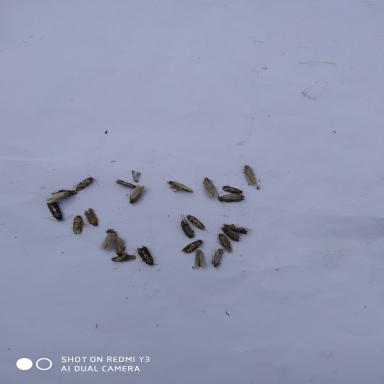pbw: (44, 198, 75, 222), (130, 243, 159, 268), (42, 186, 79, 204), (177, 210, 197, 241), (220, 221, 258, 236), (178, 238, 209, 256), (126, 183, 149, 207), (239, 163, 261, 188), (74, 172, 99, 194), (216, 224, 244, 243), (200, 174, 220, 200), (164, 179, 196, 195), (96, 229, 118, 252), (191, 247, 210, 272), (216, 191, 246, 206), (215, 232, 235, 254), (184, 213, 207, 232), (210, 247, 229, 270), (108, 250, 139, 264), (68, 212, 85, 237), (80, 206, 99, 228), (111, 176, 139, 190), (114, 235, 128, 258), (218, 184, 246, 194), (128, 168, 145, 184)
